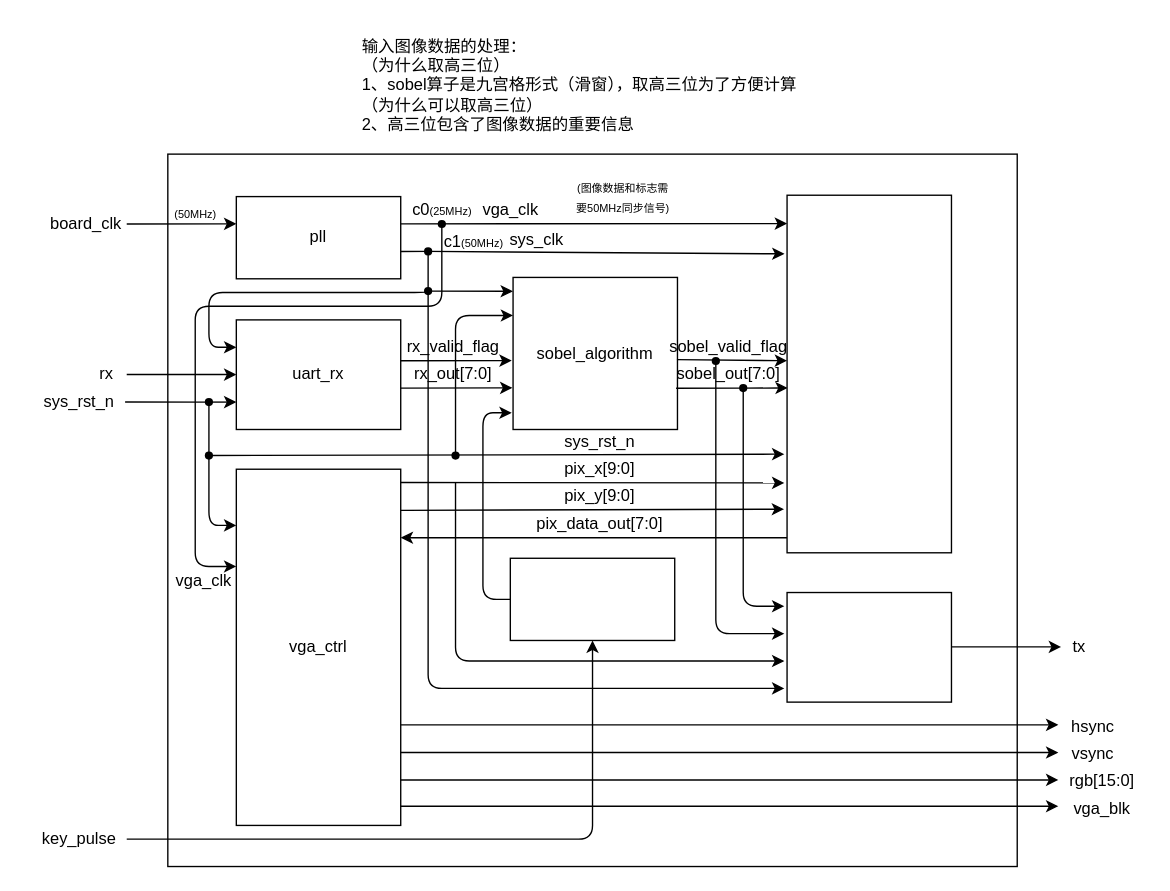
The diagram is 1170 pixels wide and 891 high, and some of its shapes have lost their labels. Here are the shapes that lost their labels. From the top down, the centre of each, then its label:
At [868,373]: "vga_pic".
At [592,598]: "key_led (threshold setting)".
At [868,646]: "uart_tx".
